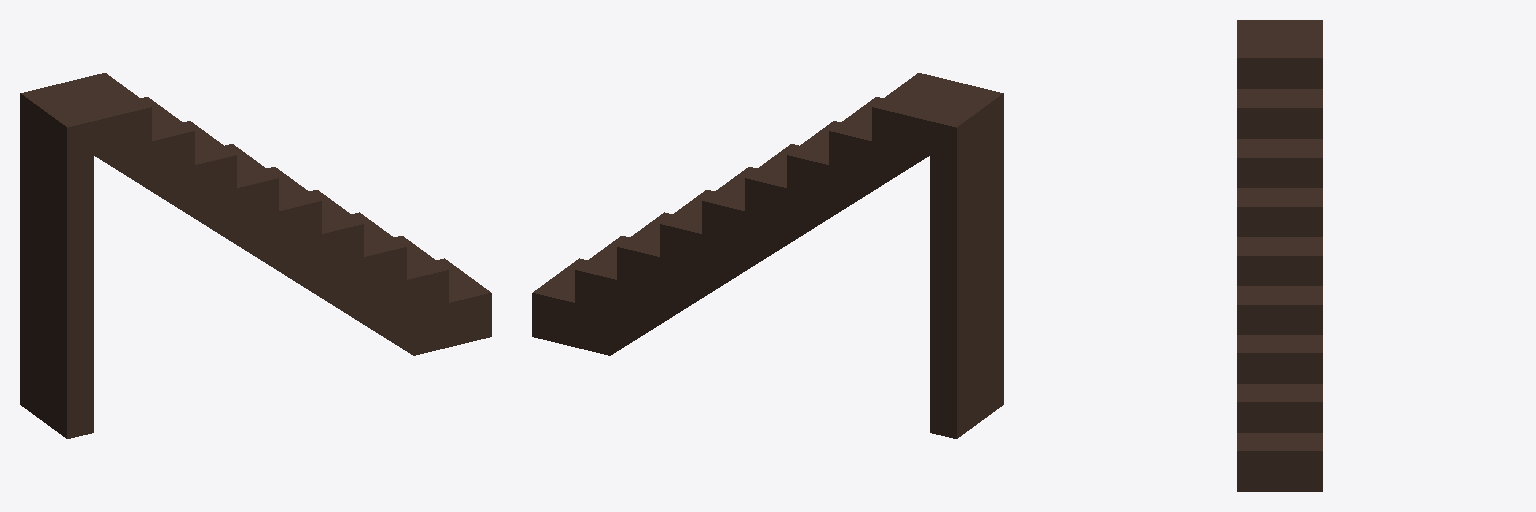
robot.urdf — stair_v2:
<?xml version="1.0" encoding="utf-8"?>
<!-- This URDF was automatically created by SolidWorks to URDF Exporter! Originally created by [author] ([email redacted]) 
     Commit Version: 1.6.0-1-g15f4949  Build Version: 1.6.7594.29634
     For more information, please see http://wiki.ros.org/sw_urdf_exporter -->
<robot
  name="stair_v2">
  <link
    name="base_link">
    <inertial>
      <origin
        xyz="1.01671558781256 0.23 0.792966335466938"
        rpy="0 0 0" />
      <mass
        value="3813.05868" />
      <inertia
        ixx="930.530011382217"
        ixy="2.03377366965801E-14"
        ixz="862.320895908045"
        iyy="2926.78818145051"
        iyz="-3.69469773367721E-14"
        izz="2130.73203951629" />
    </inertial>
    <visual>
      <origin
        xyz="0 0 0"
        rpy="0 0 0" />
      <geometry>
        <mesh
          filename="package://stair_v2/meshes/base_link.STL" />
      </geometry>
      <material
        name="">
        <color
          rgba="0.317647058823529 0.247058823529412 0.207843137254902 1" />
      </material>
    </visual>
    <collision>
      <origin
        xyz="0 0 0"
        rpy="0 0 0" />
      <geometry>
        <mesh
          filename="package://stair_v2/meshes/base_link.STL" />
      </geometry>
    </collision>
  </link>
</robot>

--- What the picture shows (computed from the rendered views, not written in the file) ---
The picture shows the robot from 3 angles, left to right: view 1: azimuth 30°, elevation 25°; view 2: azimuth 150°, elevation 25°; view 3: azimuth 270°, elevation 25°; orthographic projection.
Robot: stair_v2 — 1 links, 0 joints (none); root link base_link; default pose: every joint at zero.
Visible links, largest first — view 1: base_link; view 2: base_link; view 3: base_link.
Boxes of the visible links, <box> form: base_link: <box>20,73,491,438</box>; base_link: <box>532,73,1003,438</box>; base_link: <box>1237,20,1322,491</box>.
Bounding box of the posed robot: 2.4 × 0.46 × 1.69 m (x, y, z).
Meshes: 1 distinct files referenced, 1 mesh visuals loaded (1 binary STL).